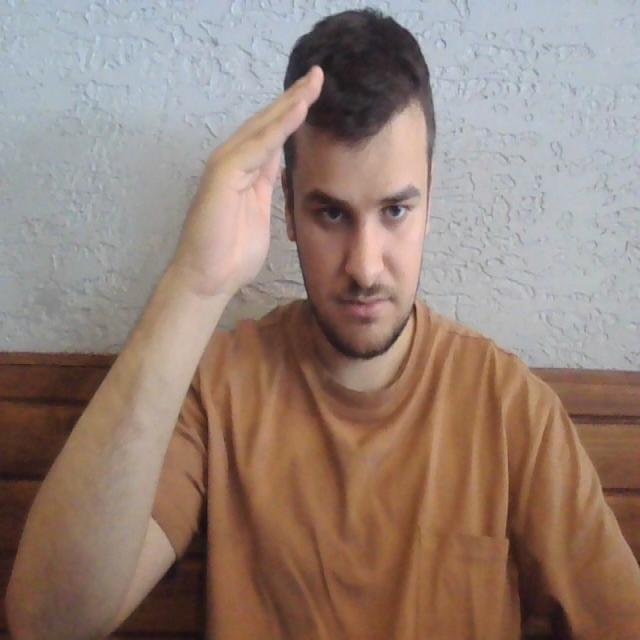Merhaba: (178, 54, 334, 318)
